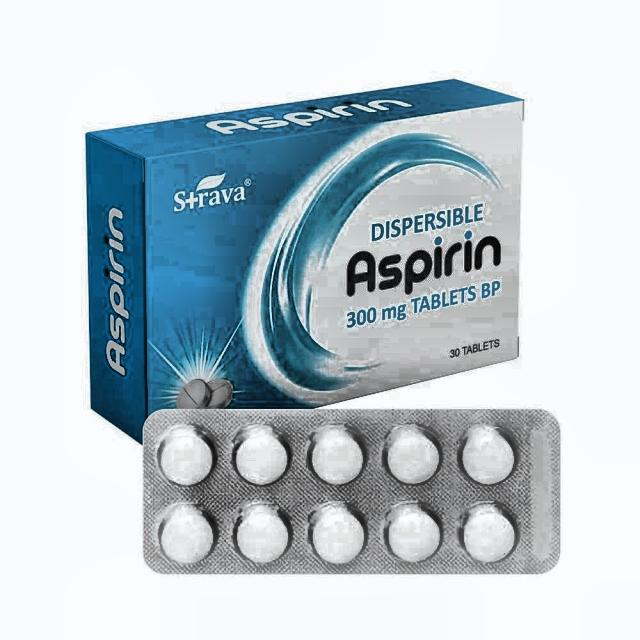Aspirin: (329, 210, 515, 339)
